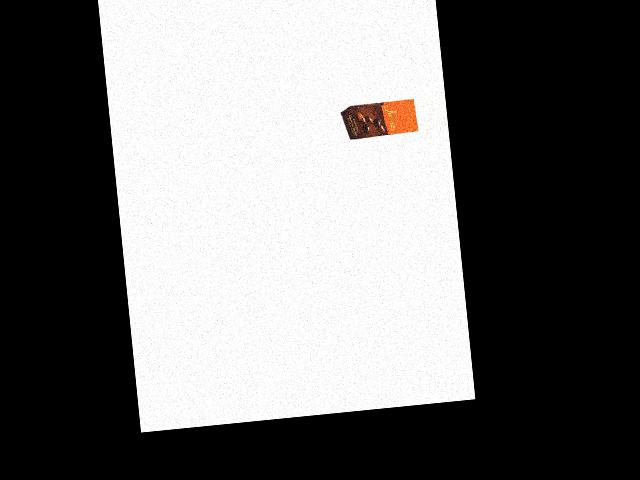chocolate: (340, 97, 418, 144)
